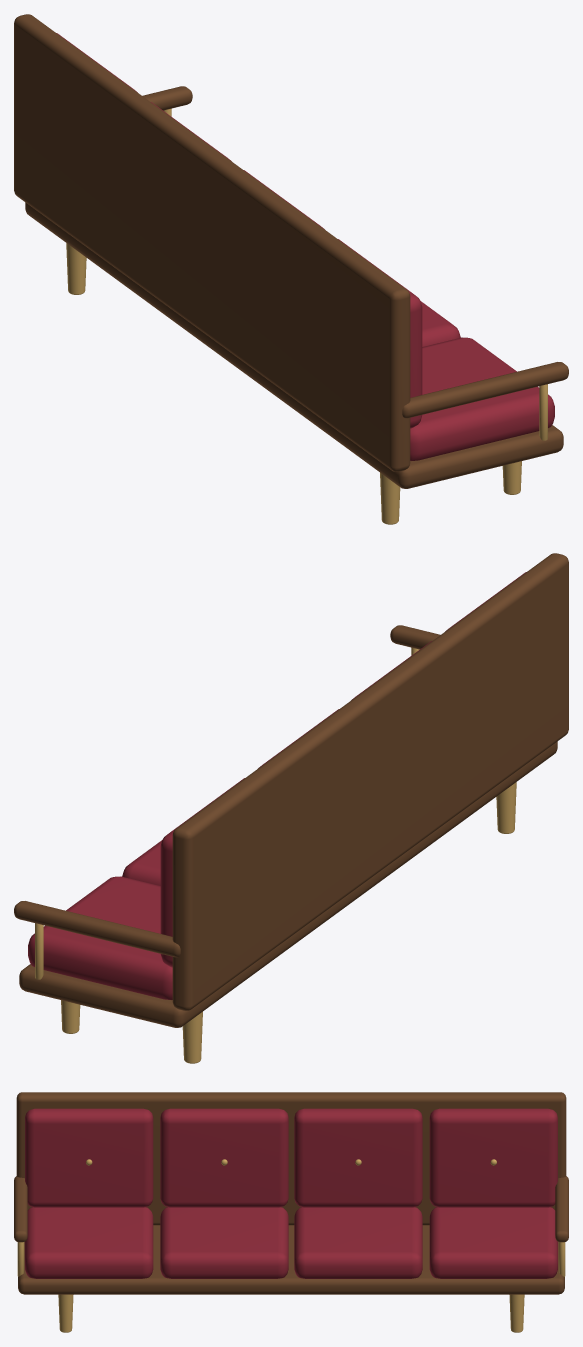
The model's file is lounge_bench.glb.
3 renders of one model, top to bottom at view 1: azimuth 30°, elevation 25°; view 2: azimuth 150°, elevation 25°; view 3: azimuth 270°, elevation 25°, orthographic. The views are drawn at different scales.
Visible parts, largest first — view 1: Walnut, Velvet, Brass; view 2: Walnut, Velvet, Brass; view 3: Velvet, Walnut, Brass.
Part boxes in pixels (x1,y1,x2,y2): Walnut: (14,14,568,488); Velvet: (56,33,554,460); Brass: (66,108,547,524); Walnut: (14,553,568,1027); Velvet: (28,572,526,999); Brass: (35,647,516,1063); Velvet: (25,1108,557,1278); Walnut: (14,1092,568,1294); Brass: (17,1159,565,1332).
Bounding box in the file's own units: 1.07 × 1.5 × 4.06.
